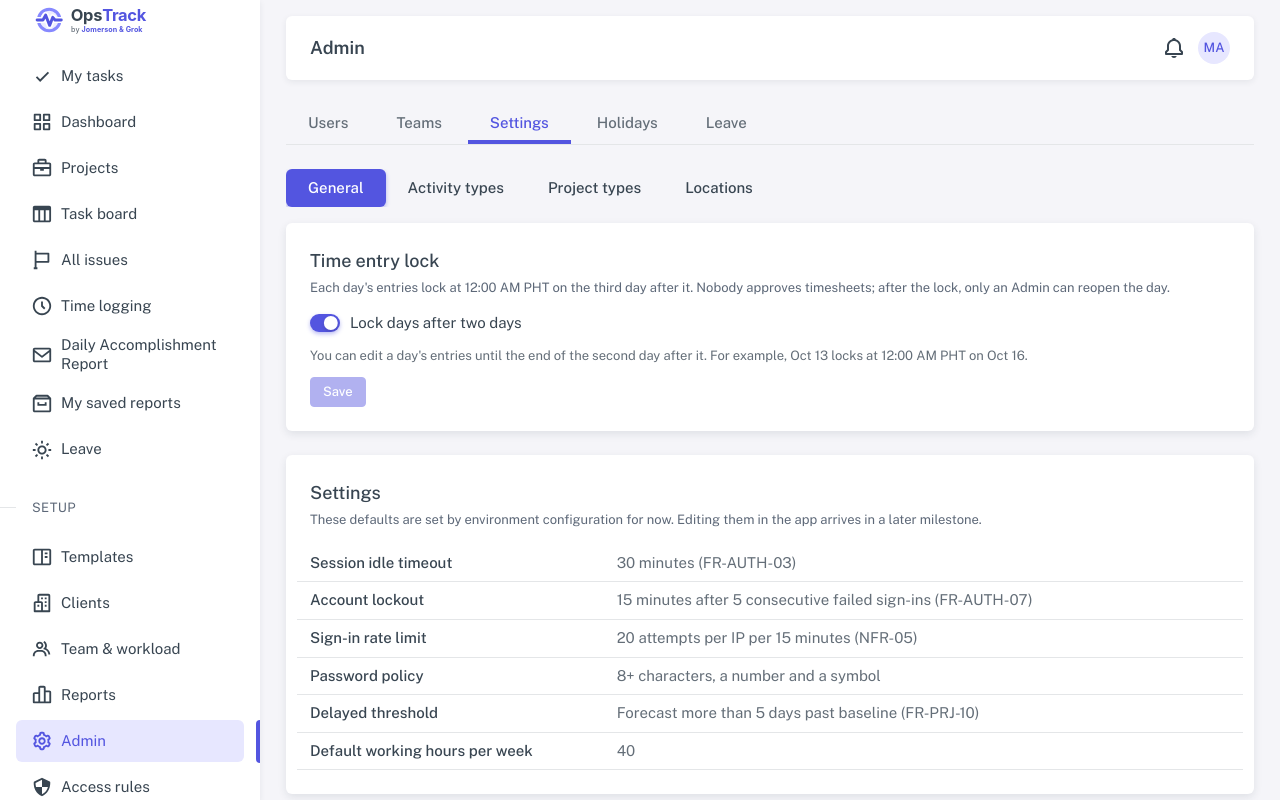
Test: FR-PTY-01 Admin › Settings › Project types › lists types with default activity type, projects using it and status; inactive default marked
The image size is (1280, 800).
Click the button "Project types".
click(595, 188)  # box [526,169,663,207]
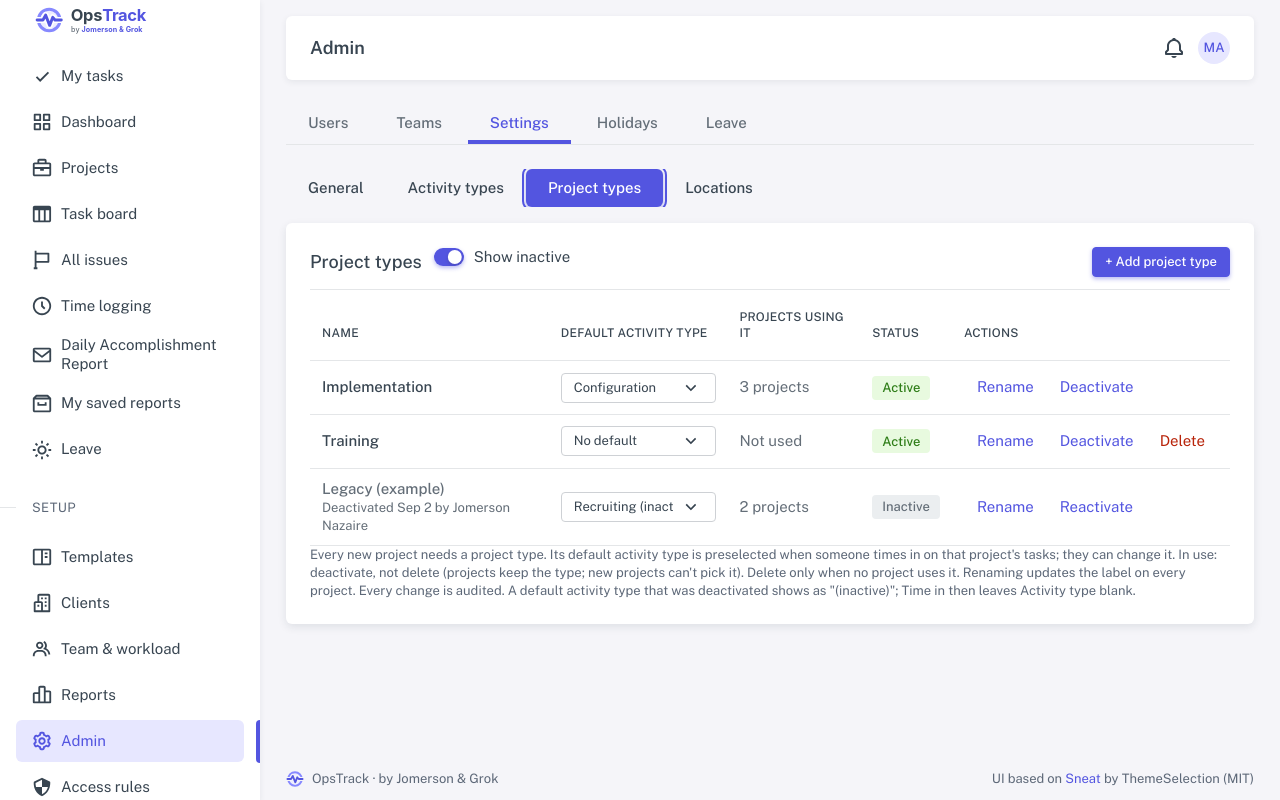
Expected: the dropdown named "Default activity type for Legacy (example)" shows "Recruiting (inactive)", [561,492,716,522]
Expected: the text "Inactive" is shown, [872,495,940,519]
Expected: the button "Reactivate" is shown, [1047,490,1146,523]
